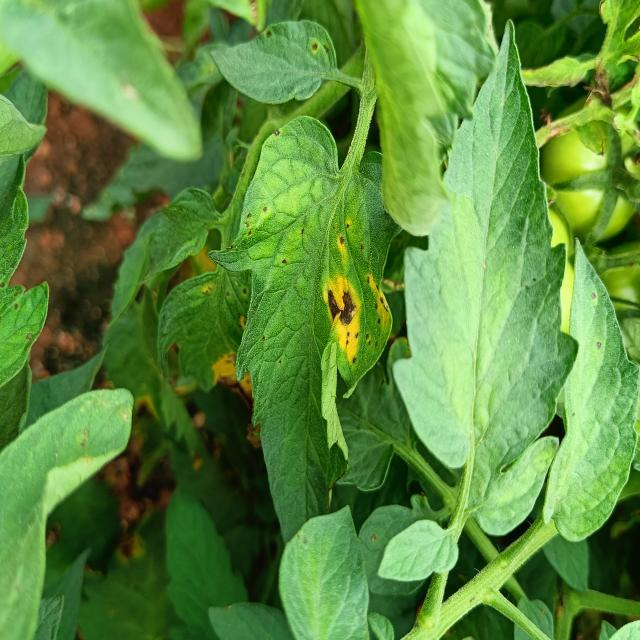Tomato mosaic virus leaf: (204, 111, 400, 535), (208, 17, 338, 107)
